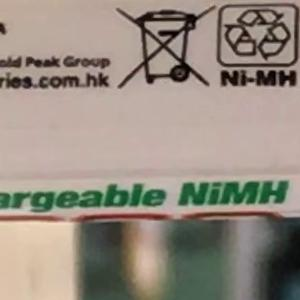NIMH: (168, 171, 298, 216)
